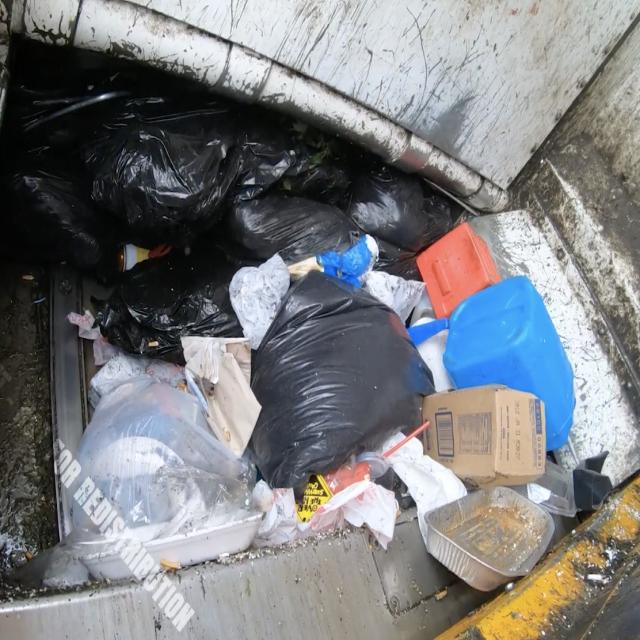bag: (68, 54, 454, 329), (209, 243, 435, 460), (71, 352, 265, 604)
cardboard: (416, 365, 581, 514)
plastic: (434, 287, 602, 457)
